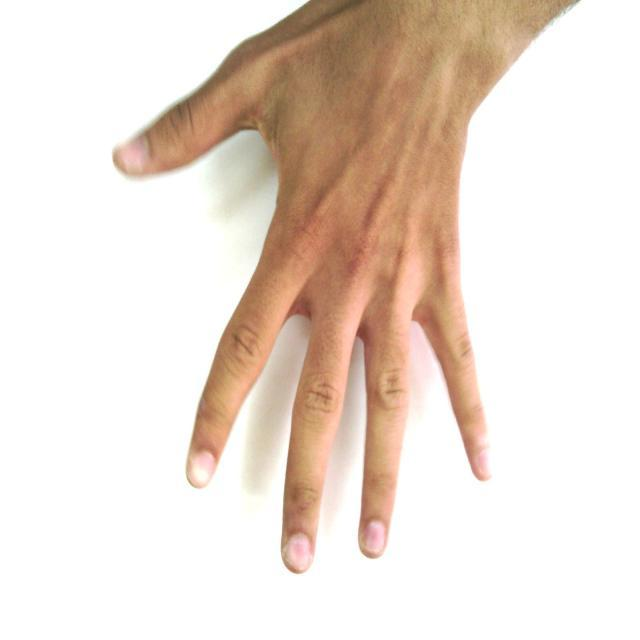Fingernail: (115, 136, 148, 173), (287, 534, 311, 571), (190, 452, 213, 486), (364, 521, 384, 555), (476, 453, 490, 479)
